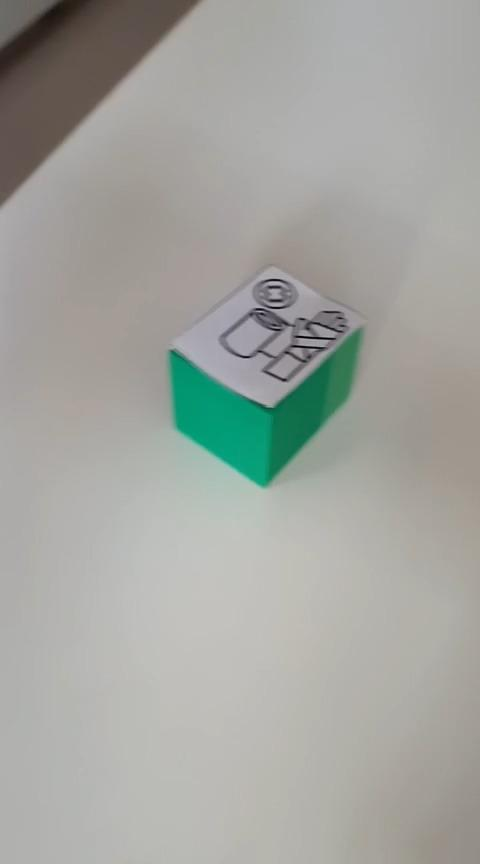Bandages: (166, 262, 368, 488)
